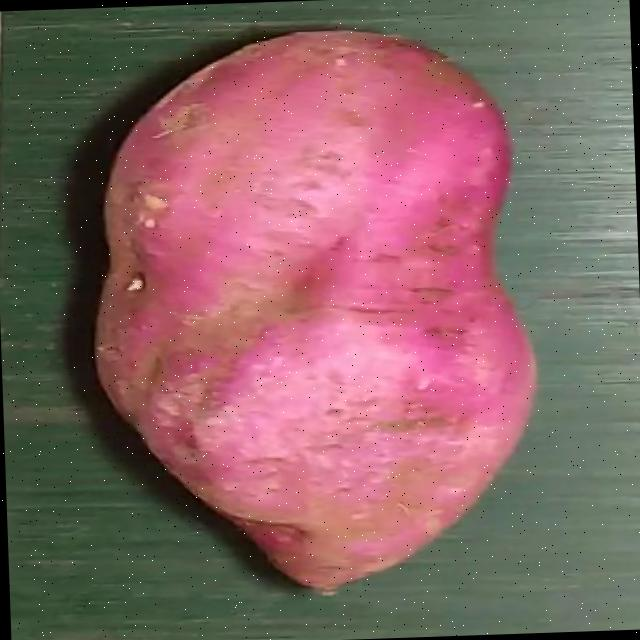Sweet Potato: (94, 28, 538, 590)
